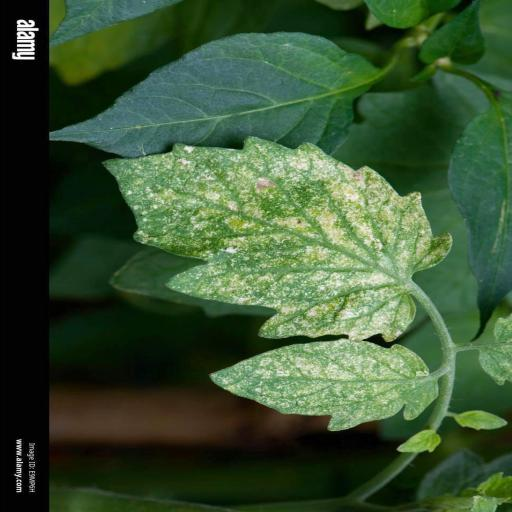disease_tomato: (99, 134, 453, 340), (206, 340, 436, 434)
